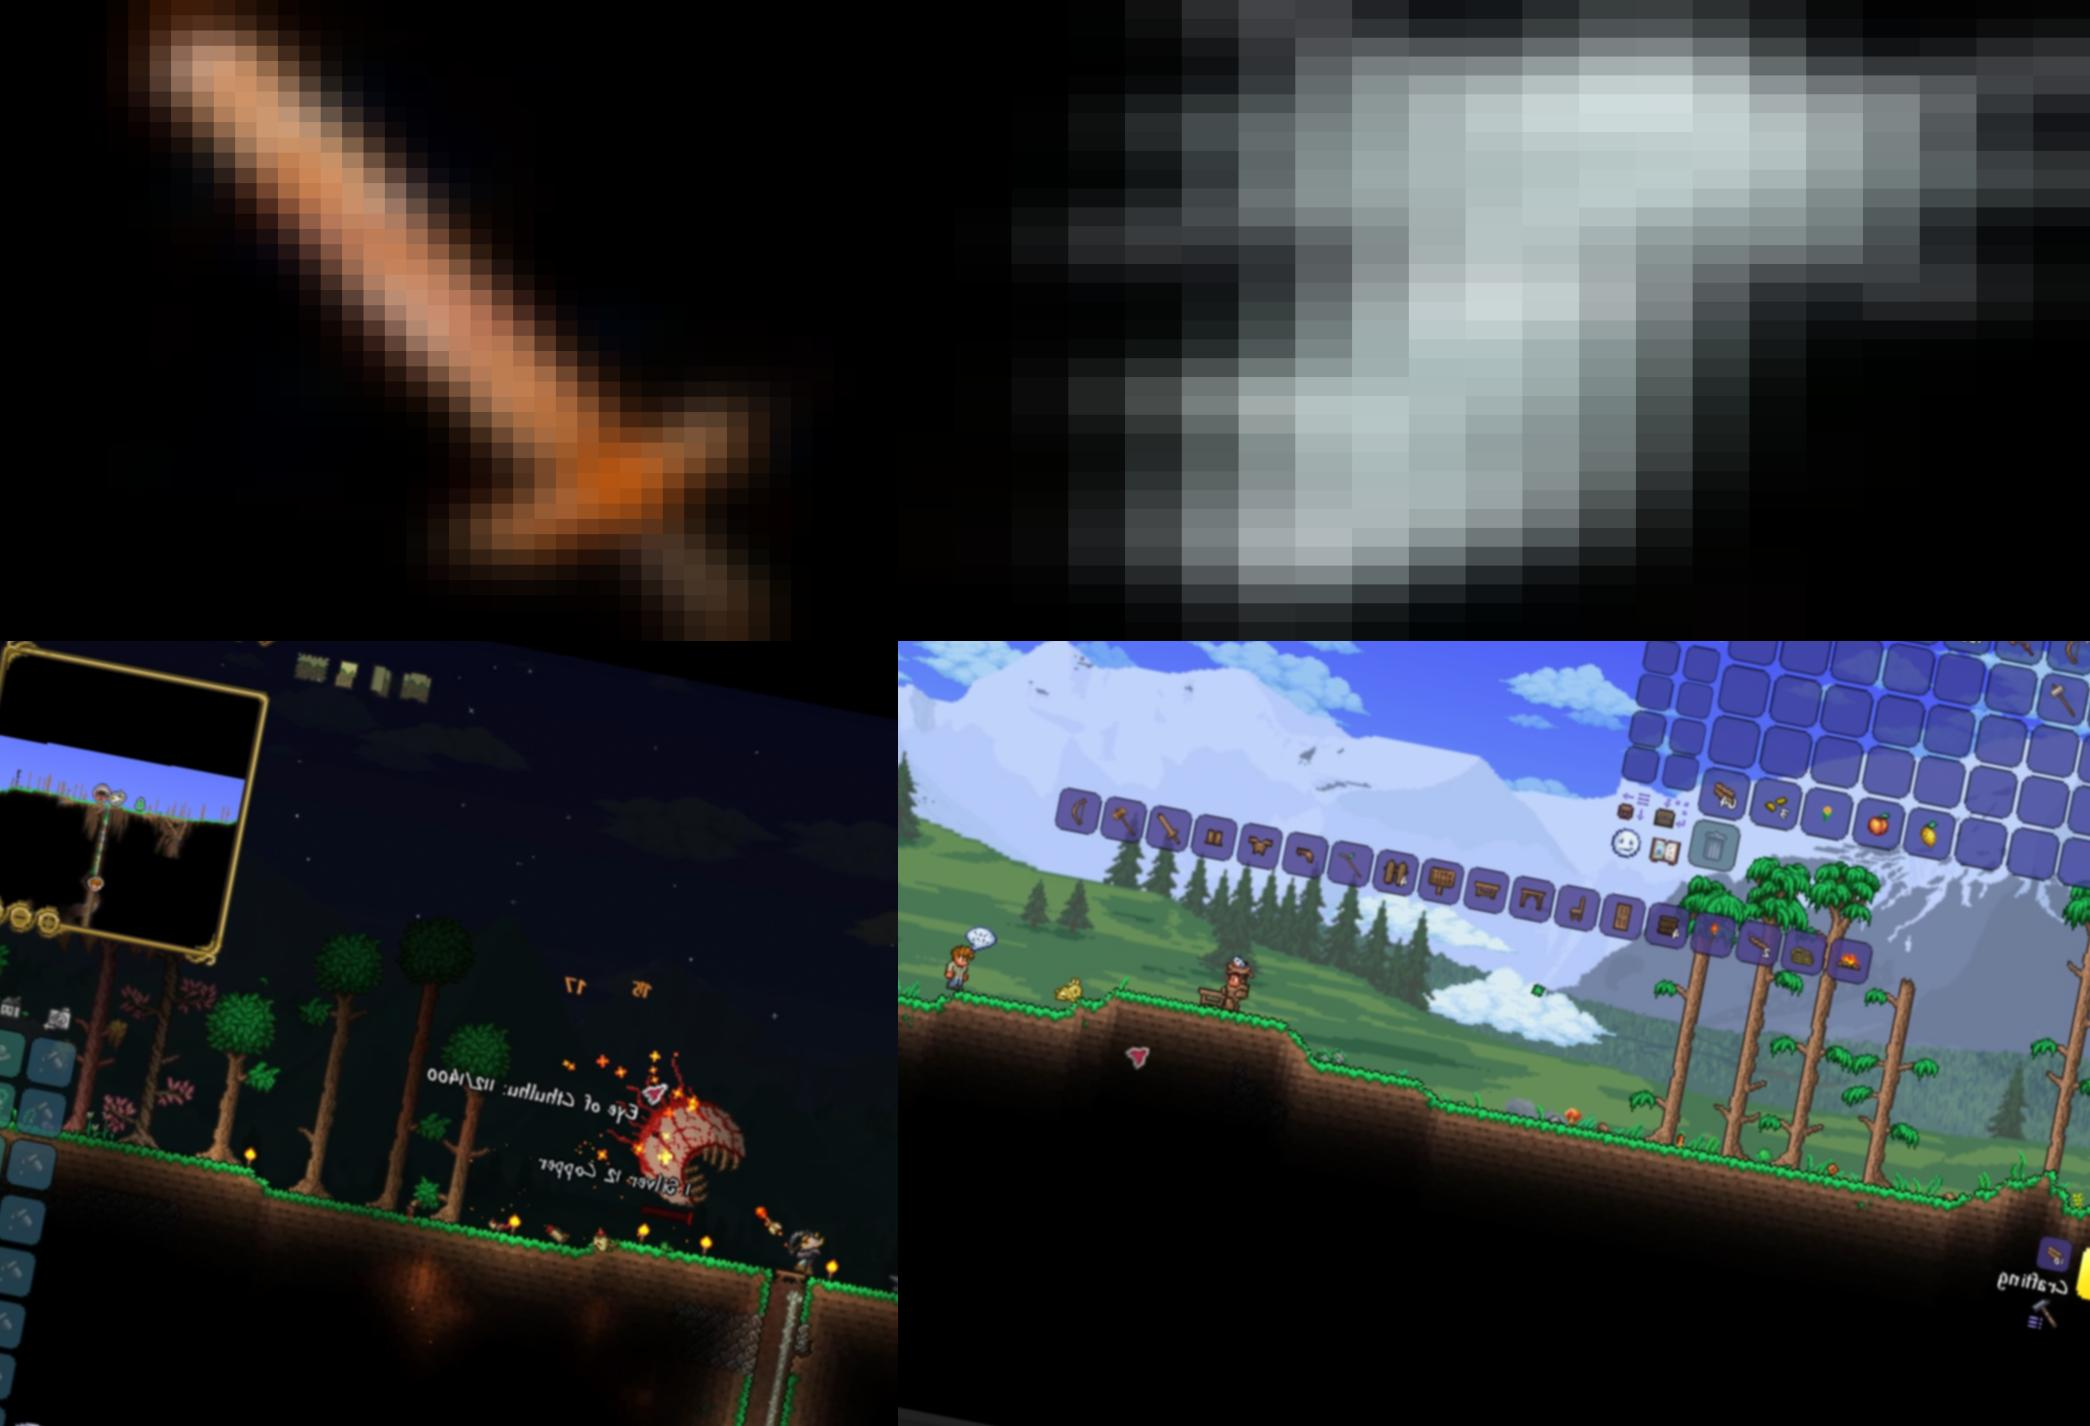eyeC: (591, 1037, 765, 1215)
helmet: (1288, 843, 1320, 869)
rope: (897, 0, 2090, 642)
sword: (0, 0, 897, 642)
